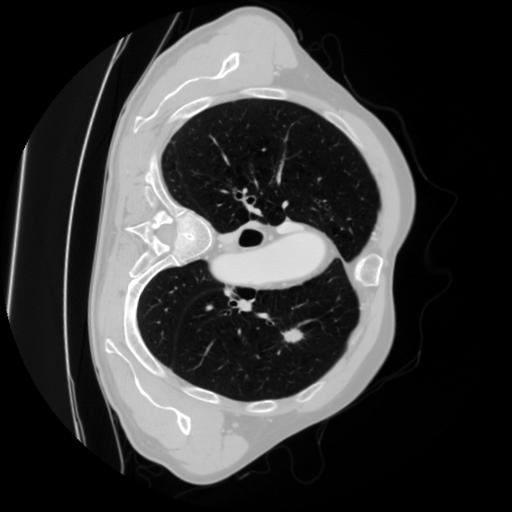nodule: (282, 324, 305, 347)
